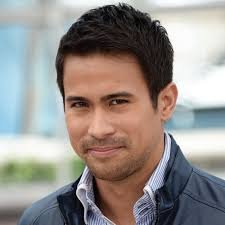asian_male: (40, 24, 189, 183)
